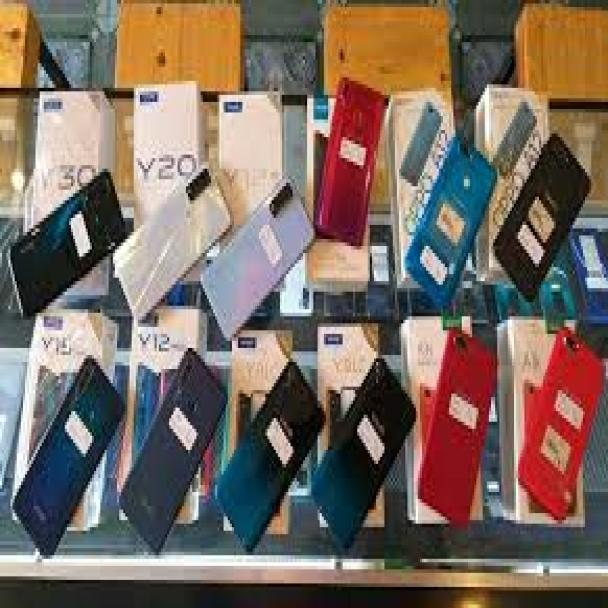Handphone: (115, 347, 231, 564), (11, 351, 127, 564), (211, 356, 328, 557), (310, 356, 425, 555), (199, 174, 318, 347), (112, 162, 233, 326), (7, 167, 130, 326), (491, 128, 594, 311), (401, 131, 500, 311), (518, 326, 608, 523), (415, 328, 500, 527), (316, 77, 388, 252)
